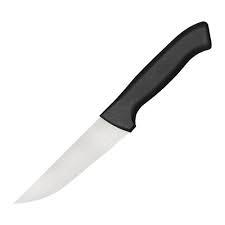Knife: (13, 20, 212, 204)
